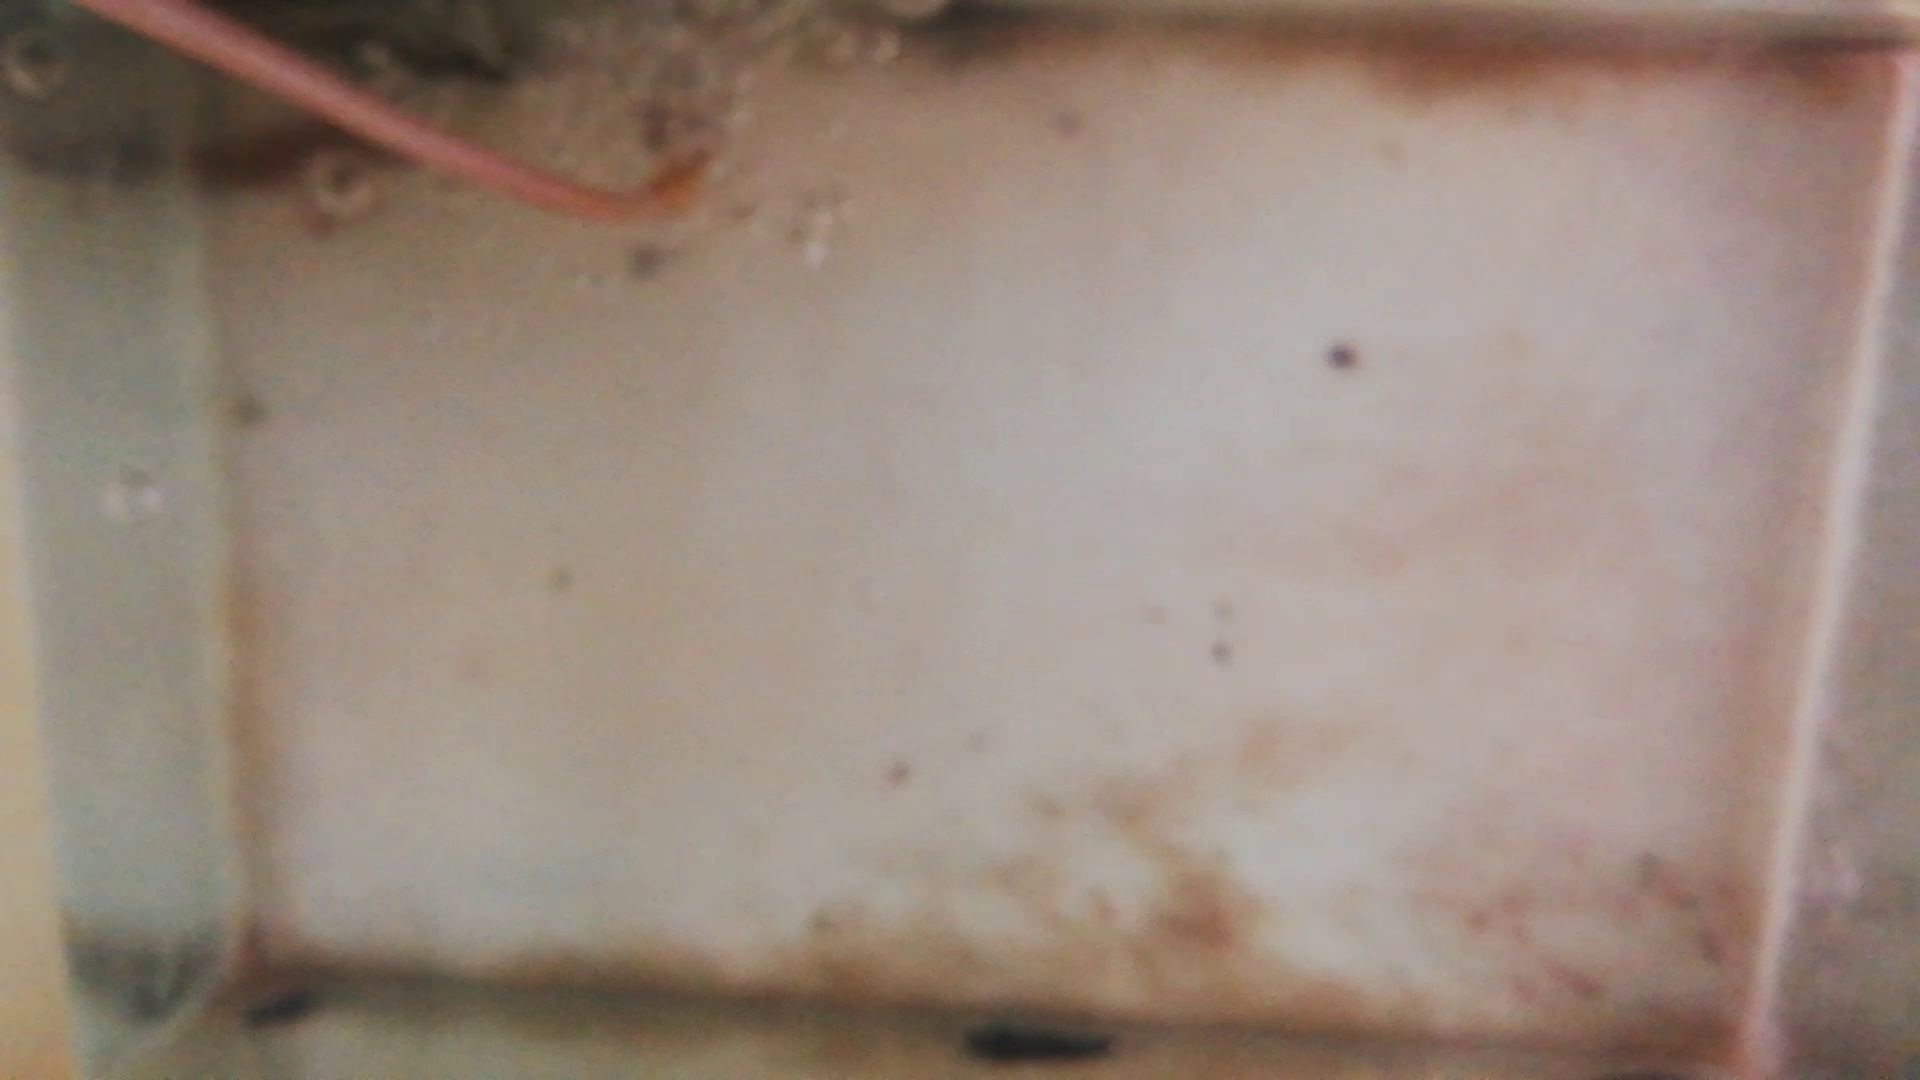fish: (190, 132, 392, 189), (353, 33, 520, 94)
